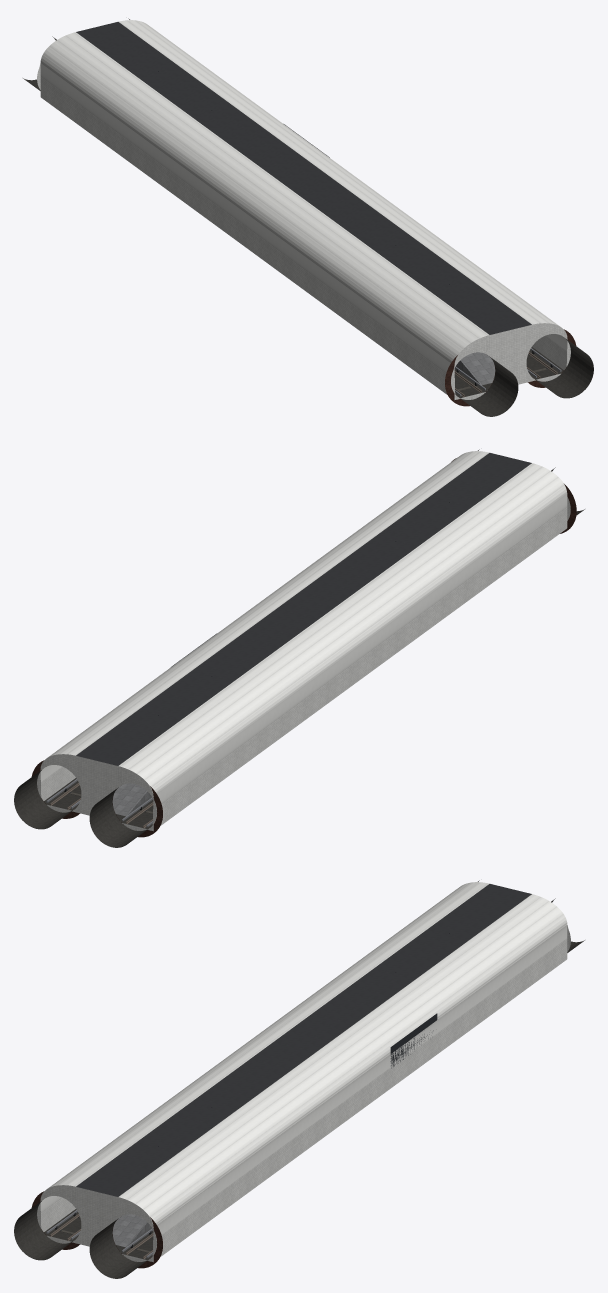
Rendered from station_shields-road.glb.
3 views of the same model, one above another, from view 1: azimuth 30°, elevation 25°; view 2: azimuth 150°, elevation 25°; view 3: azimuth 330°, elevation 25° (orthographic).
Parts seen in each view (by area): view 1: hall_shell, end_walls; view 2: hall_shell, end_walls; view 3: hall_shell, end_walls, hall_art.
Part boxes in pixels (bbox=[...]): hall_shell: bbox=[40, 20, 567, 399]; end_walls: bbox=[23, 18, 593, 416]; hall_shell: bbox=[40, 451, 567, 830]; end_walls: bbox=[14, 449, 584, 847]; hall_shell: bbox=[40, 882, 567, 1261]; end_walls: bbox=[14, 880, 584, 1278]; hall_art: bbox=[390, 1013, 437, 1068].
Bounding box in the file's own units: 9.94 × 4.84 × 60.
30 materials, 21 textured.
